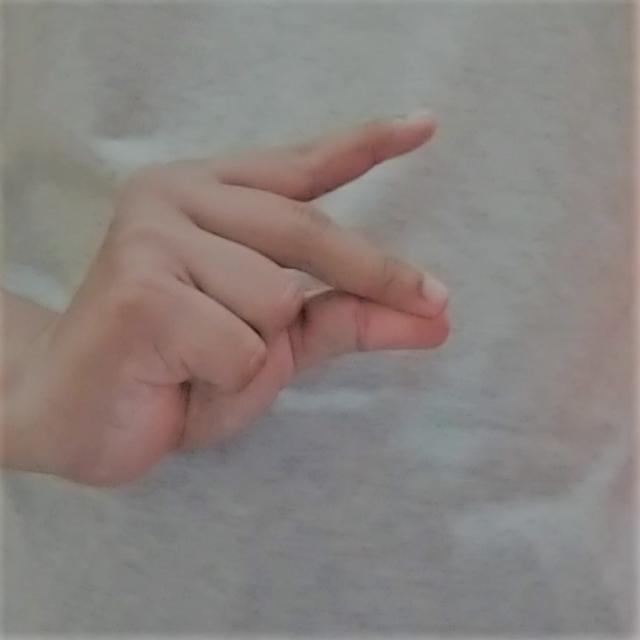R: (41, 98, 479, 499)
